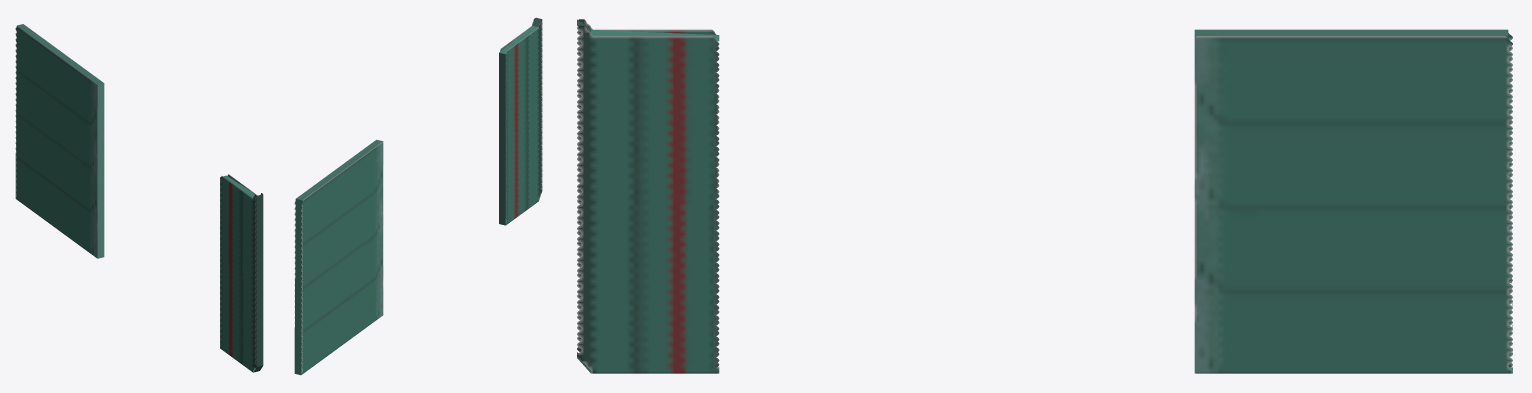
The model's file is pz_native_location_restaurant_diner_01_17_frame.obj.
3 views of the same model, side by side, from view 1: azimuth 30°, elevation 25°; view 2: azimuth 150°, elevation 25°; view 3: azimuth 270°, elevation 25° (orthographic). The views are drawn at different scales.
Visible parts, largest first — view 1: pz_native_location_restaurant_diner_01_17_frame; view 2: pz_native_location_restaurant_diner_01_17_frame; view 3: pz_native_location_restaurant_diner_01_17_frame.
Part boxes in pixels (x1,y1,x2,y2): pz_native_location_restaurant_diner_01_17_frame: (15,24,263,372); pz_native_location_restaurant_diner_01_17_frame: (294,17,542,375); pz_native_location_restaurant_diner_01_17_frame: (577,19,1512,373).
Size of the model in its own units: 0.04 by 1.06 by 2.54.
1 material, 1 textured.
